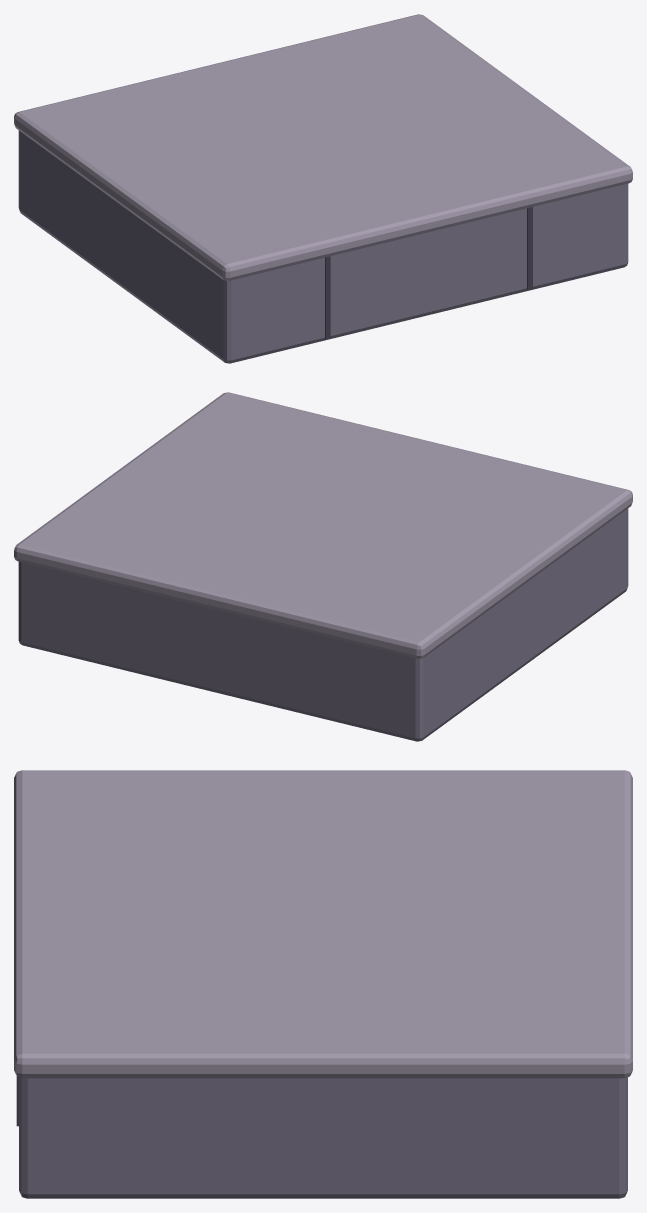
The model's file is stone_block.glb.
The picture shows the model from 3 angles, top to bottom: view 1: azimuth 30°, elevation 25°; view 2: azimuth 150°, elevation 25°; view 3: azimuth 270°, elevation 25°; orthographic projection. The views are drawn at different scales.
Parts seen in each view (by area): view 1: top lip, stone block, mortar seam, mortar seam.001; view 2: top lip, stone block; view 3: top lip, stone block.
Part boxes in pixels (left/top/right/bottom): top lip: left=14, top=14, right=632, bottom=280; stone block: left=18, top=130, right=628, bottom=363; mortar seam: left=324, top=256, right=330, bottom=338; mortar seam.001: left=527, top=207, right=532, bottom=289; top lip: left=14, top=392, right=632, bottom=658; stone block: left=18, top=508, right=628, bottom=741; top lip: left=14, top=770, right=632, bottom=1078; stone block: left=19, top=1077, right=627, bottom=1198.
Size of the model in its own units: 2.03 by 0.48 by 1.83.
